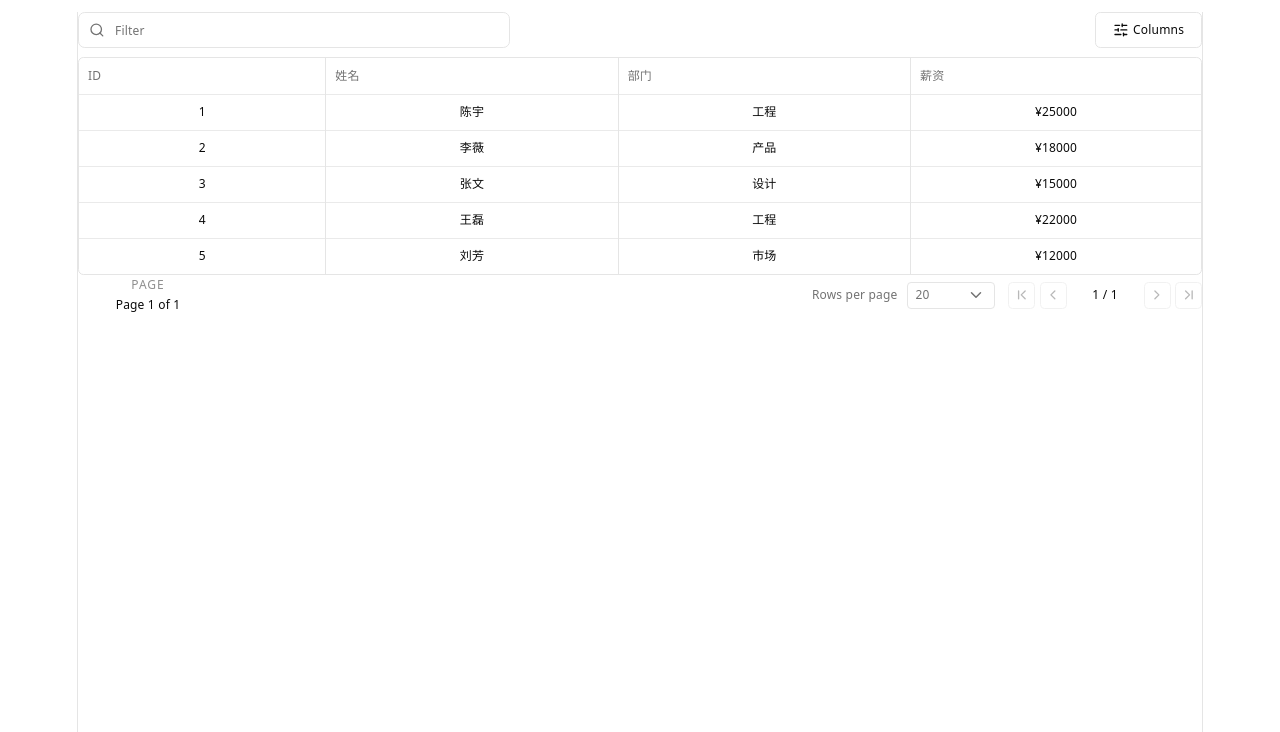
Test case: DataGrid — data mode › filters rows by column value
Type "陈宇" into the field.
click(294, 30); type("陈宇")  # box [78,12,510,48]
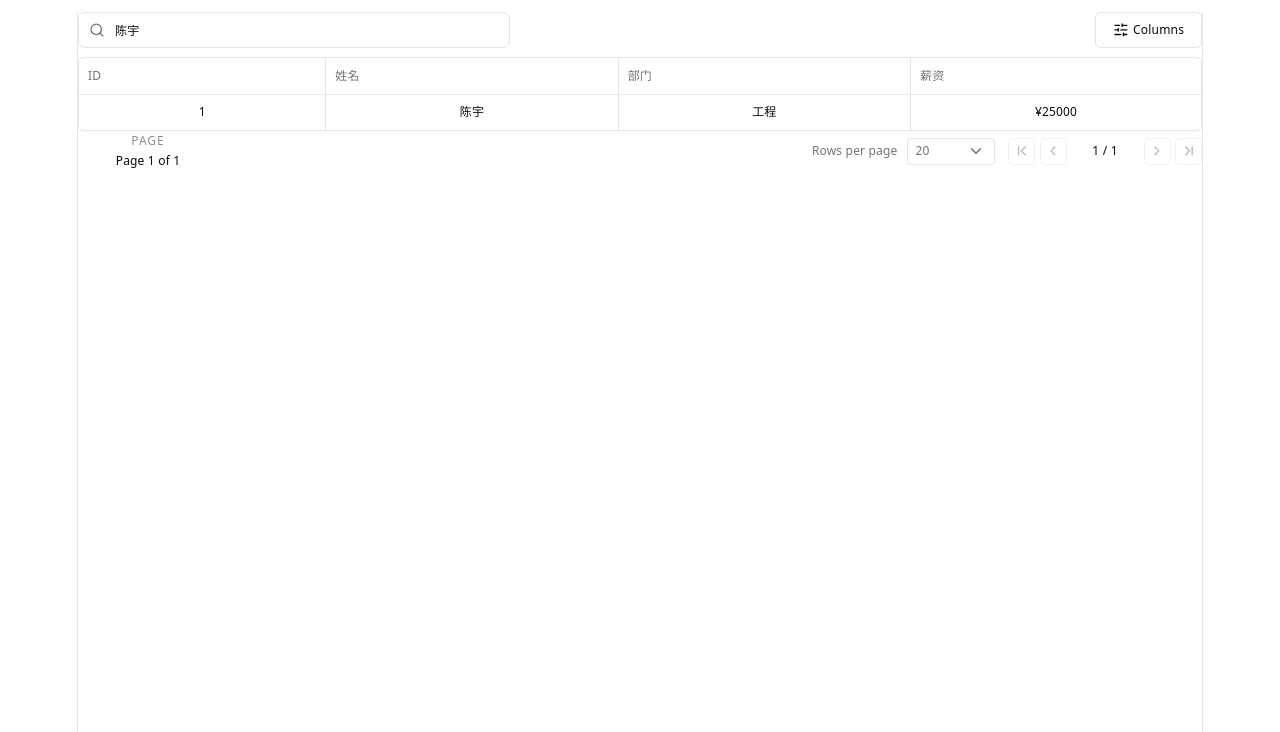
Expected: the text "陈宇" is shown, [460,103,484,120]
Expected: the text "李薇" is gone
